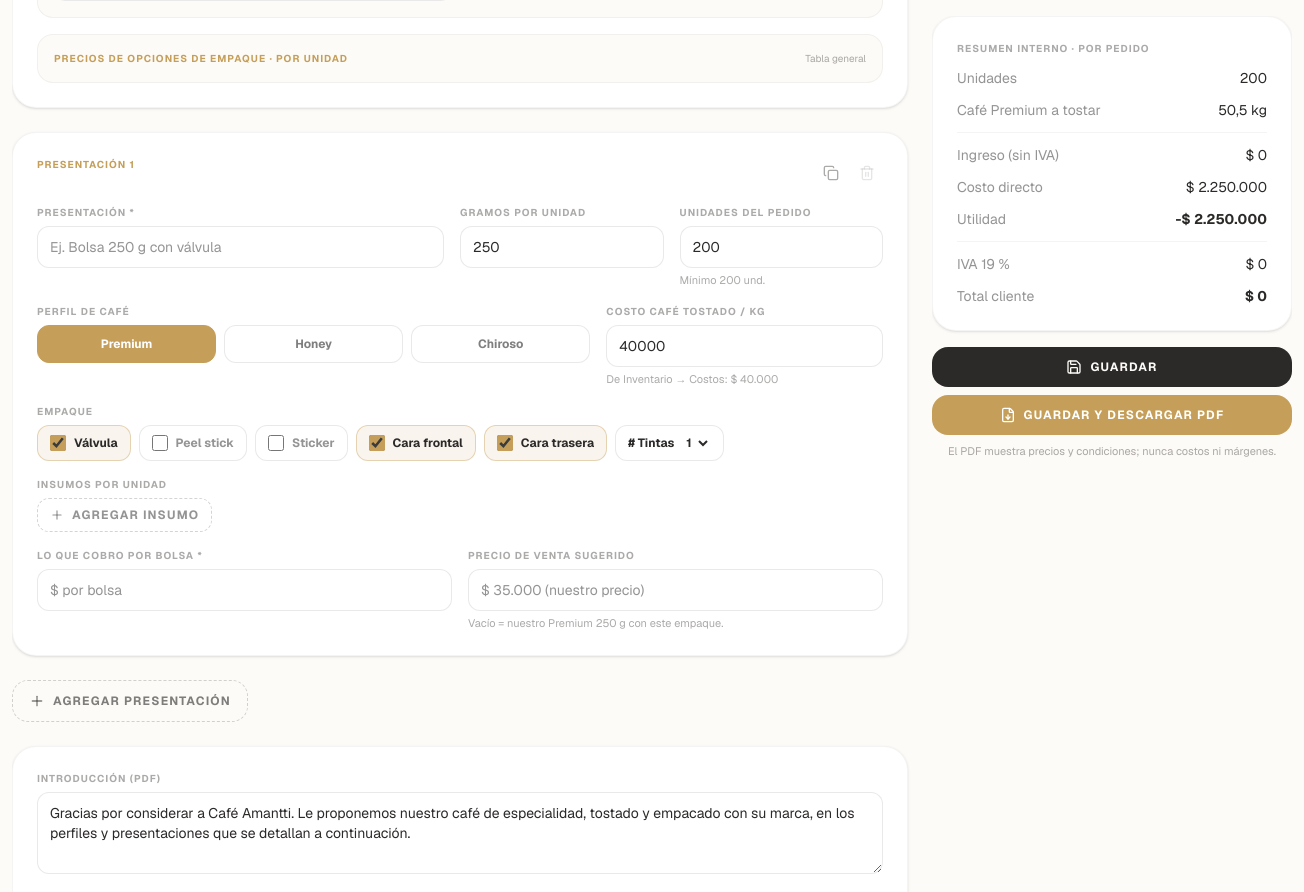
MaquilaForm prices › the resale field shows our reference price for the bag, moving with each option
(page scrolled)
Click the checkbox labelled "Cara trasera": (505, 442) x1=497 y1=434 x2=513 y2=450
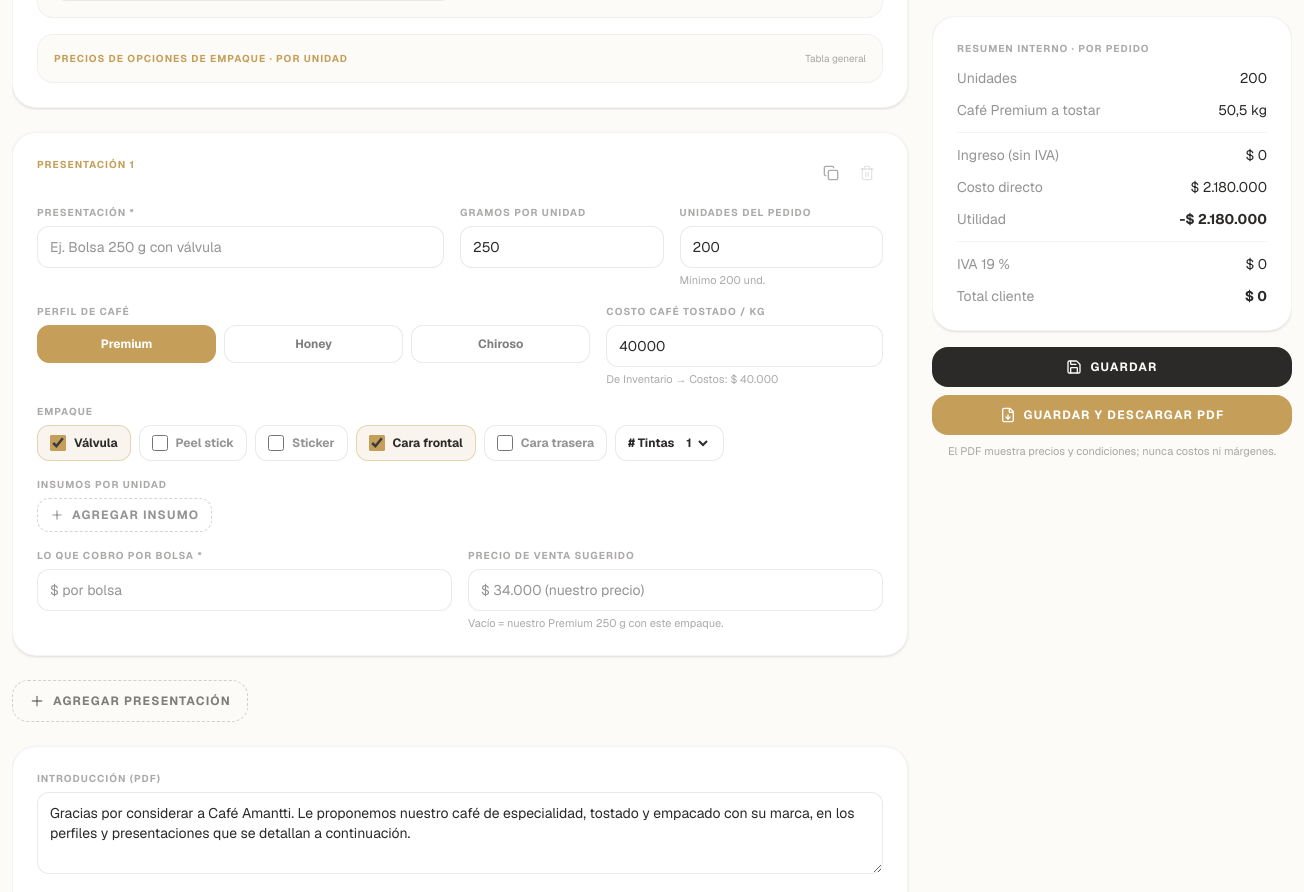
Click the checkbox labelled "Peel stick": (160, 442) x1=152 y1=434 x2=168 y2=450
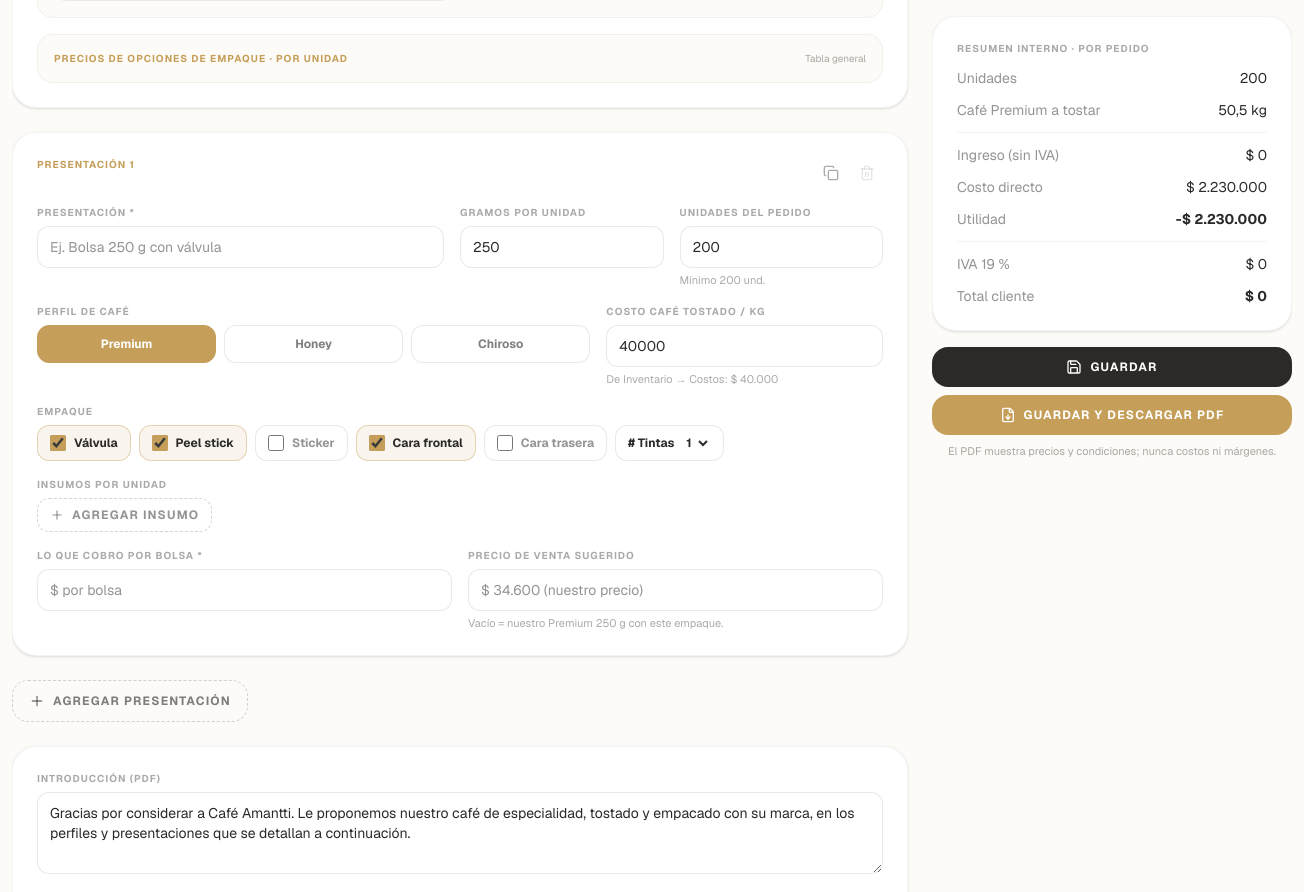
Select "2" in the dropdown named "Número de tintas por cara": (697, 442) x1=682 y1=430 x2=711 y2=456
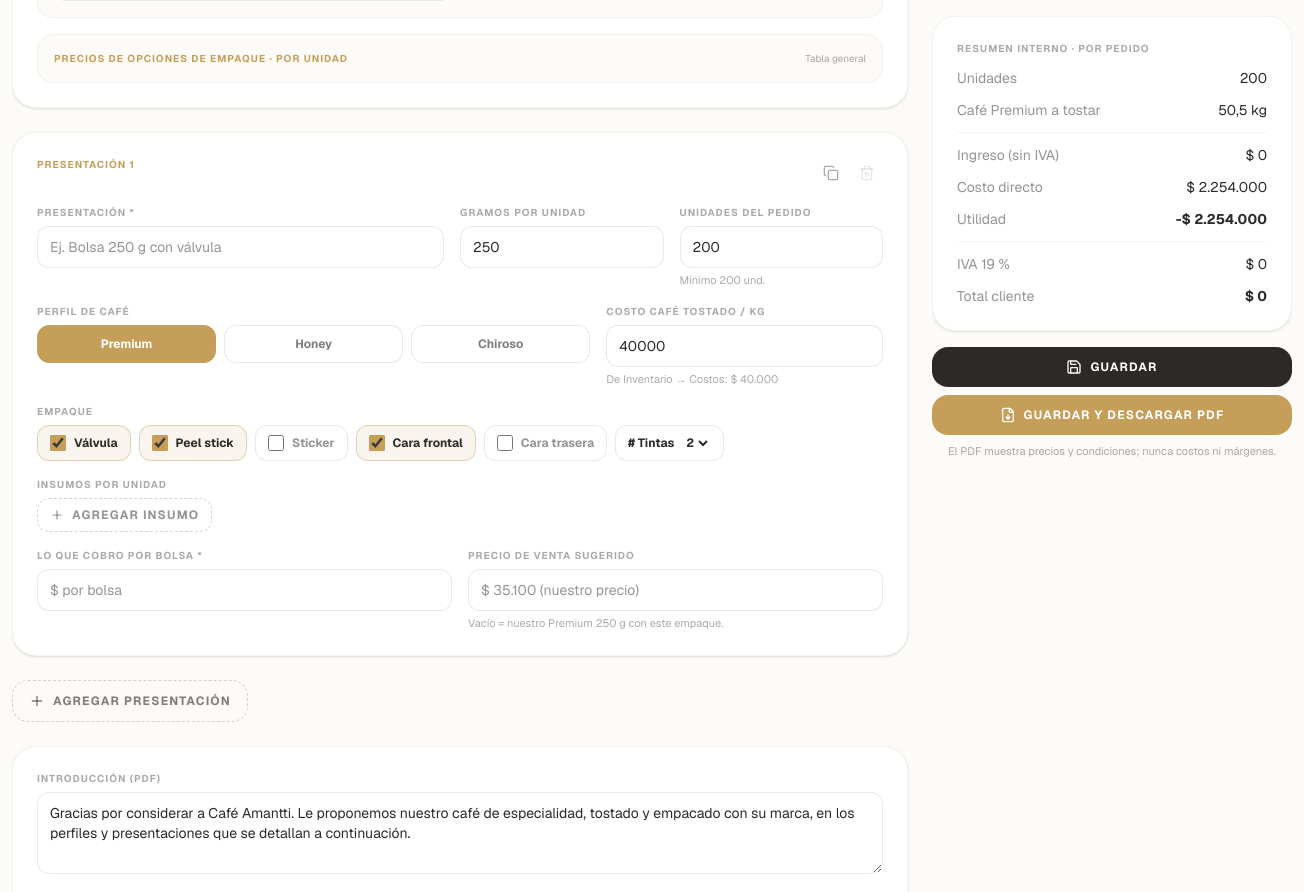
In the field named "Precio de venta sugerido": (676, 590) x1=468 y1=568 x2=883 y2=610, type "39900"
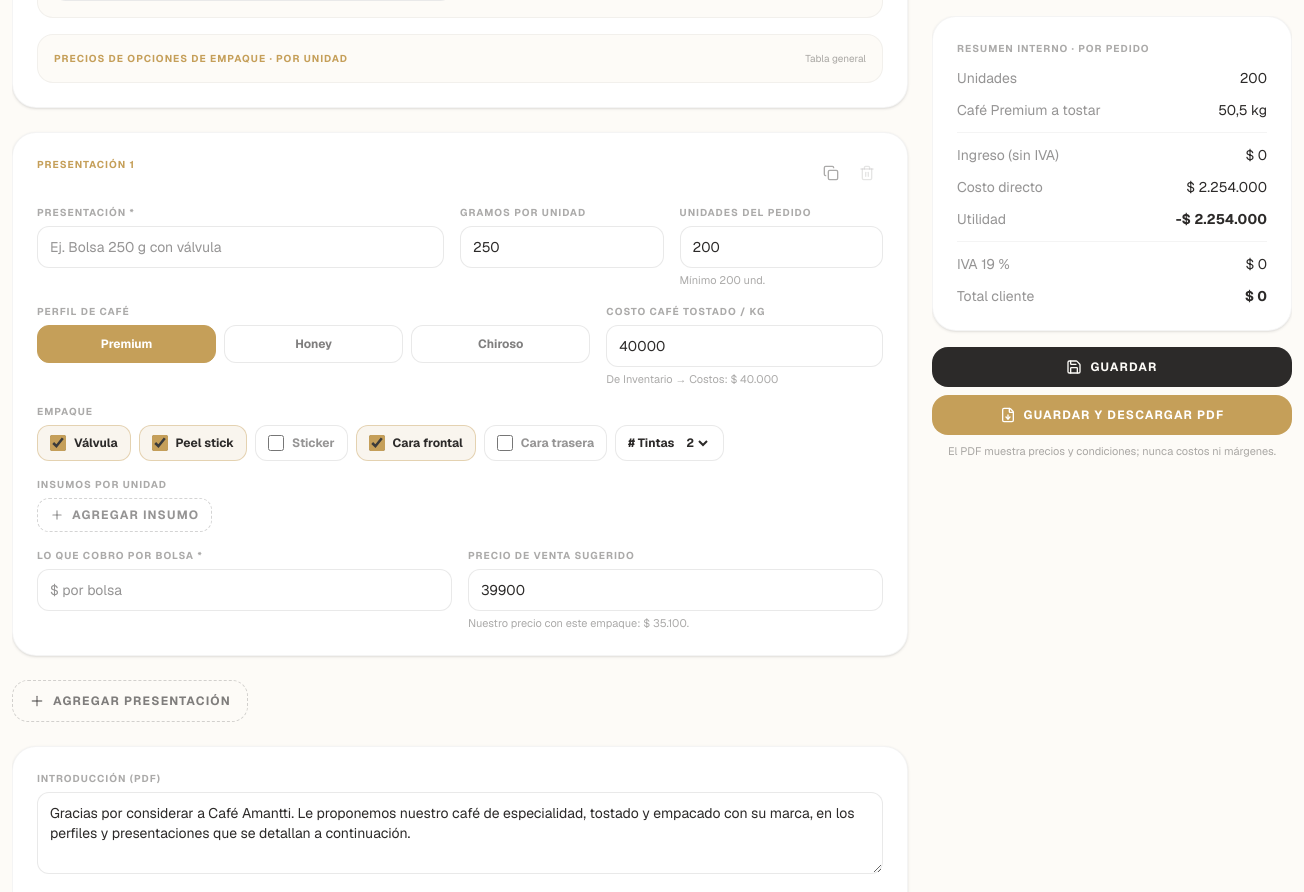
Expected: the text "Nuestro precio con este empaque: $ 35.100." is shown, x1=468 y1=616 x2=689 y2=630
